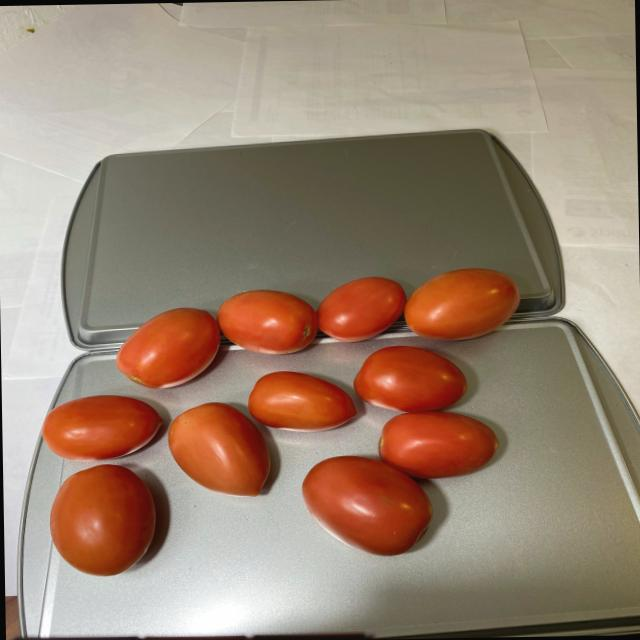tomato: (38, 264, 533, 570)
